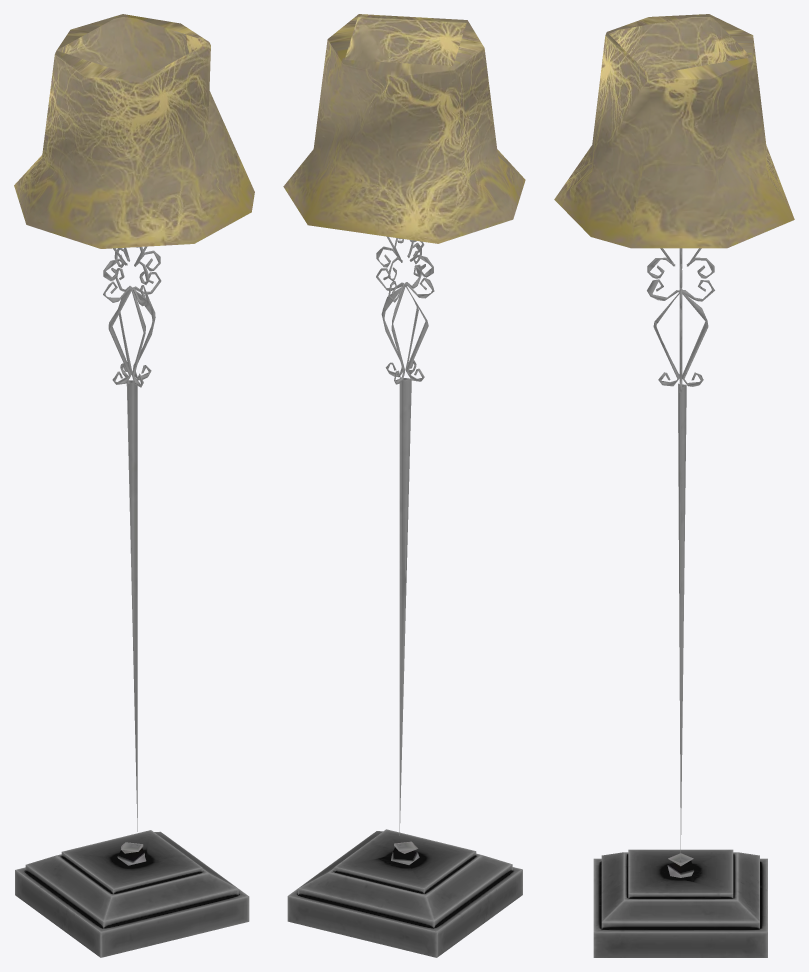
The model's file is floor_lamp.glb.
3 views of the same model, side by side, from view 1: azimuth 30°, elevation 25°; view 2: azimuth 150°, elevation 25°; view 3: azimuth 270°, elevation 25° (orthographic).
Visible parts, largest first — view 1: defaultMaterial; view 2: defaultMaterial; view 3: defaultMaterial.
Boxes of the visible parts, x1,y1,x2,y2 form: defaultMaterial: (14, 14, 254, 957); defaultMaterial: (283, 14, 525, 957); defaultMaterial: (554, 14, 794, 957).
Size of the model in its own units: 0.4105 by 1.65 by 0.4105.
Materials: 1 (1 with a texture image).
